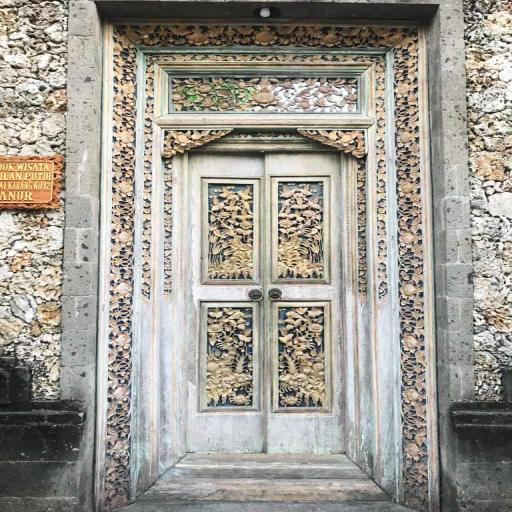Door: (187, 149, 345, 455)
Stairs: (105, 454, 425, 512)
